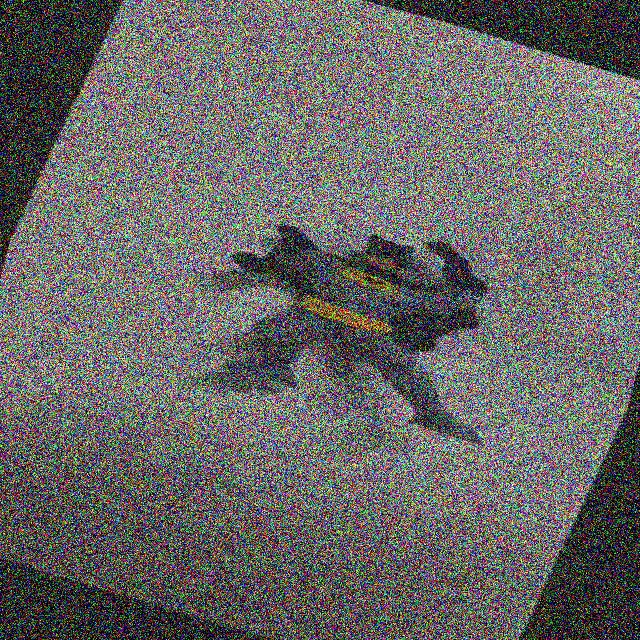Batman: (154, 166, 576, 480)
